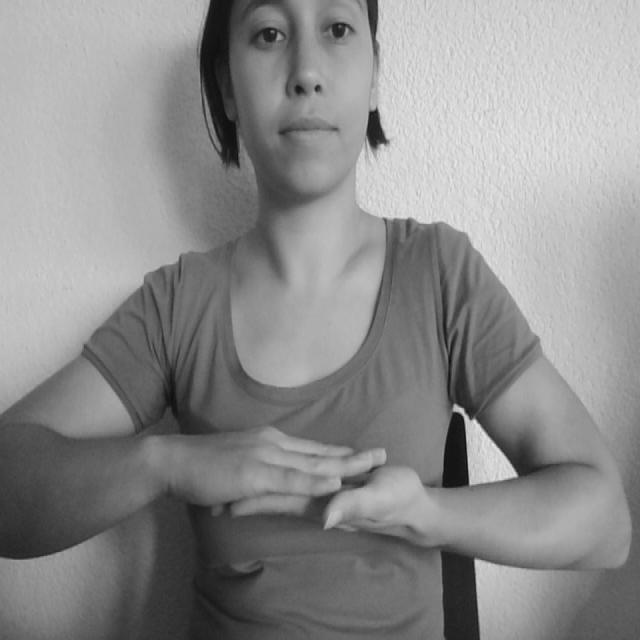Arkadas: (130, 400, 520, 580)
